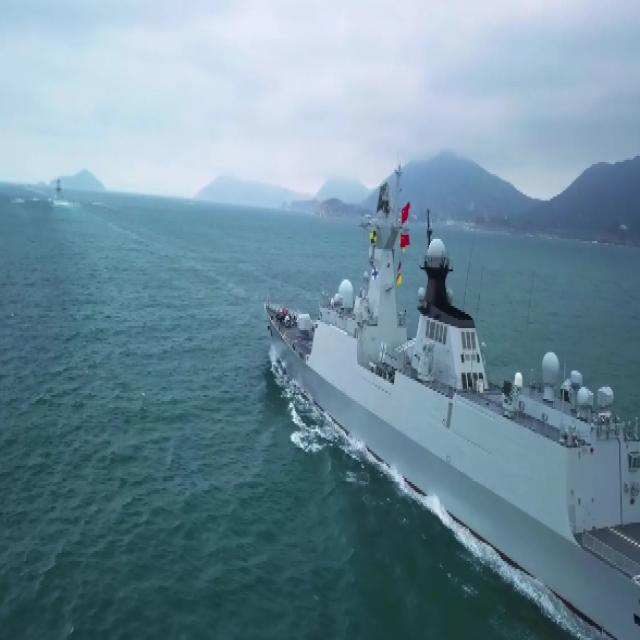navalvessels: (265, 180, 640, 639)
